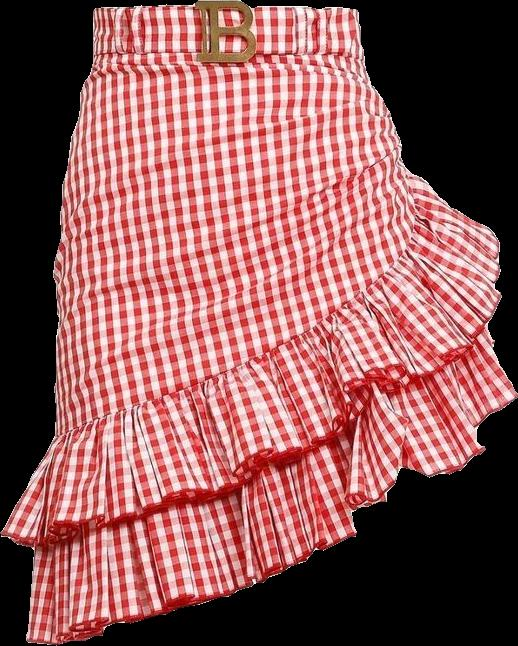Hemline: (2, 232, 504, 550), (23, 387, 517, 645)
Waistline: (55, 167, 419, 435), (89, 50, 363, 67), (91, 1, 361, 15)
